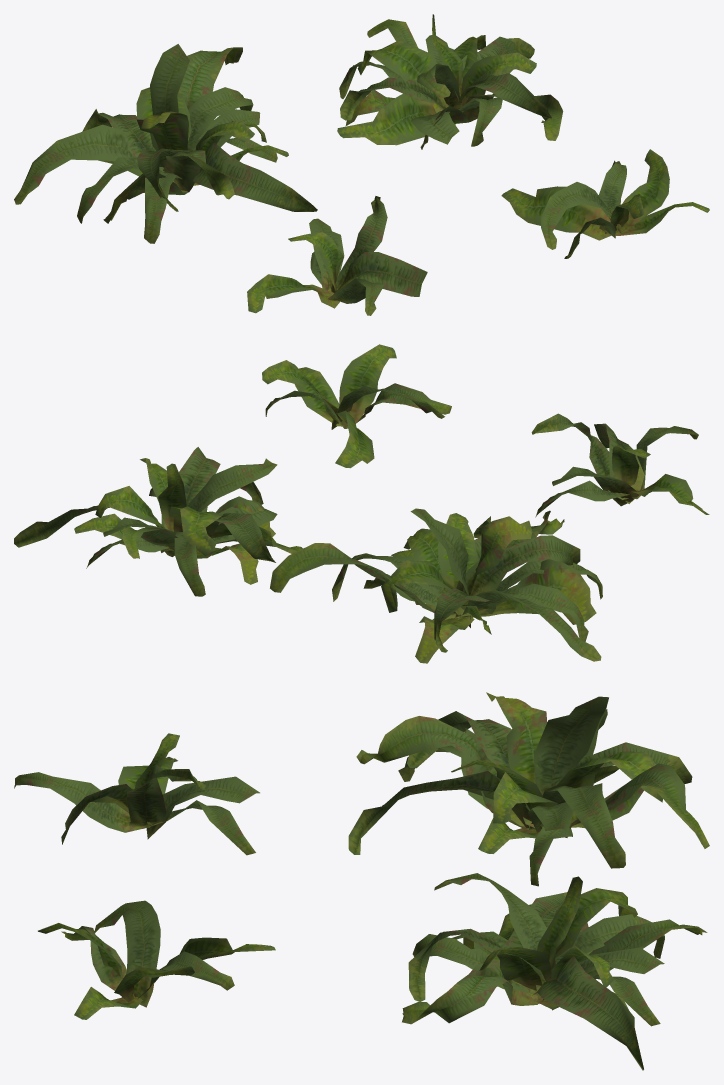
The model's file is fern.glb.
3 renders of one model, top to bottom at view 1: azimuth 30°, elevation 25°; view 2: azimuth 150°, elevation 25°; view 3: azimuth 270°, elevation 25°, orthographic. The views are drawn at different scales.
Visible parts, largest first — view 1: fern_02_b; view 2: fern_02_b; view 3: fern_02_b.
Part boxes in pixels (box(x1,y1,x2,y2)): fern_02_b: box(14, 14, 709, 315); fern_02_b: box(14, 344, 709, 663); fern_02_b: box(14, 692, 709, 1070).
Bounding box in the file's own units: 1.97 × 0.4277 × 1.72.
Materials: 1 (1 with a texture image).
